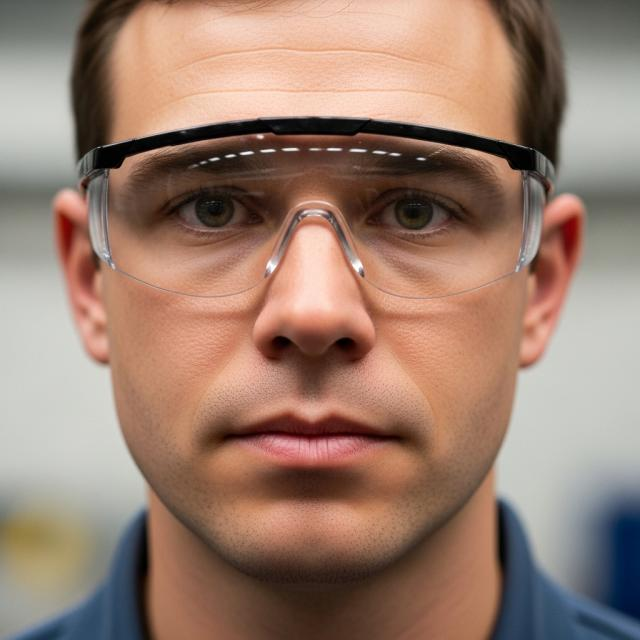oculos-epi: (78, 118, 552, 298)
